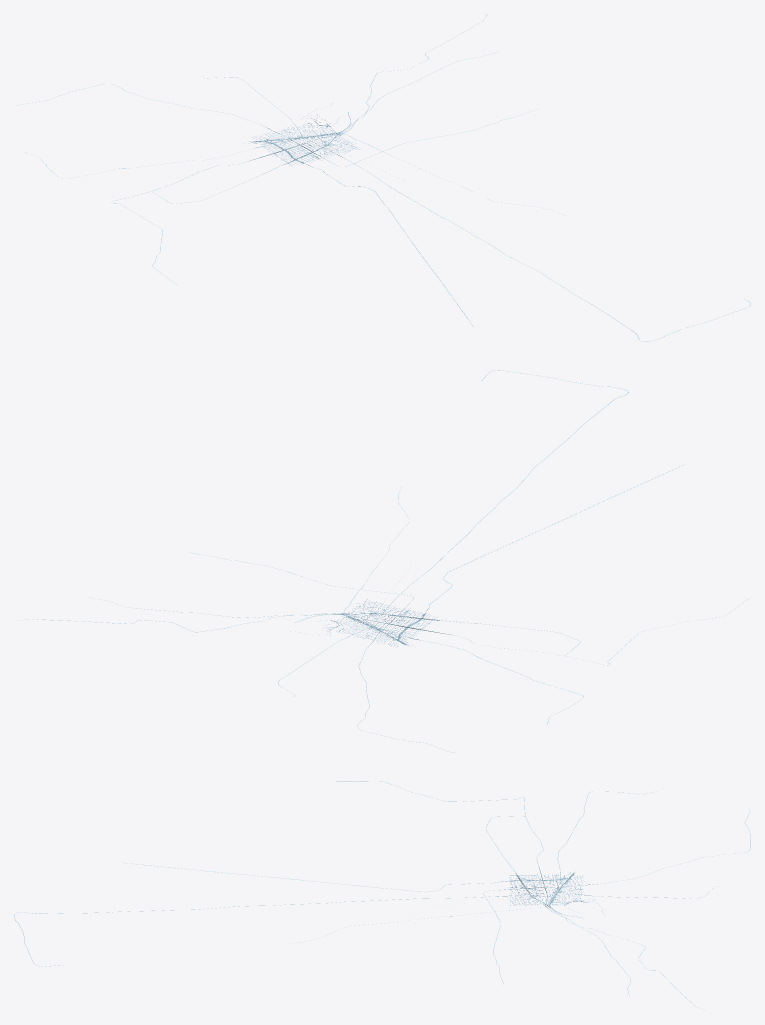
Rendered from roads.glb.
3 renders of one model, top to bottom at view 1: azimuth 30°, elevation 25°; view 2: azimuth 150°, elevation 25°; view 3: azimuth 270°, elevation 25°, orthographic. The views are drawn at different scales.
Parts seen in each view (by area): view 1: roads; view 2: roads; view 3: roads.
Boxes of the visible parts, left/top/right/bottom form: roads: left=17, top=14, right=750, bottom=341; roads: left=18, top=370, right=747, bottom=752; roads: left=14, top=781, right=750, bottom=1006.
Bounding box in the file's own units: 21064 × 199 × 28647.
